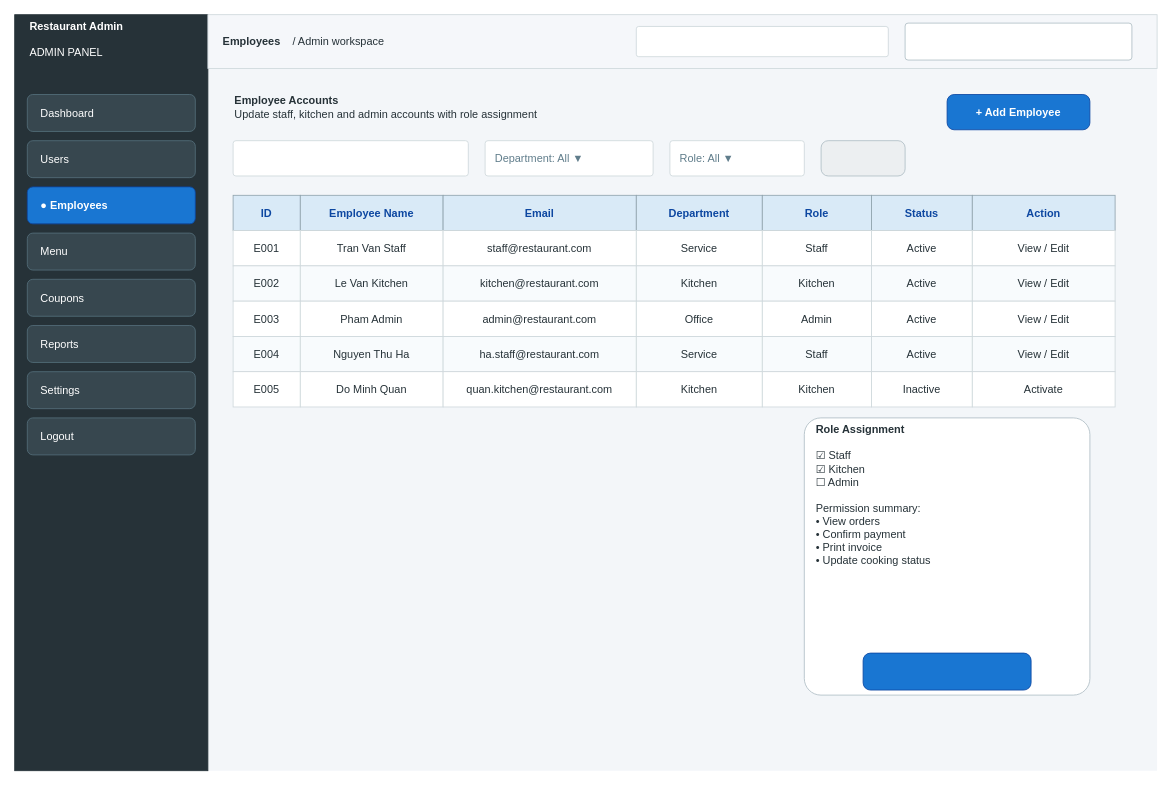
Image size: 1172x785. Some labels were removed from this diagram. The centre of each missing label's shape, as x and y in pixels:
Admin admin@restaurant.com: [1018,41]
Filter: [862,158]
Save Employee Changes: [946,671]
Search employee: [350,158]
Search in admin...: [761,41]
